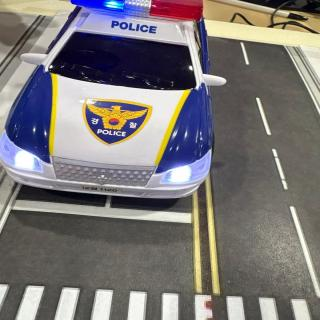Police_car: (0, 0, 225, 198)
